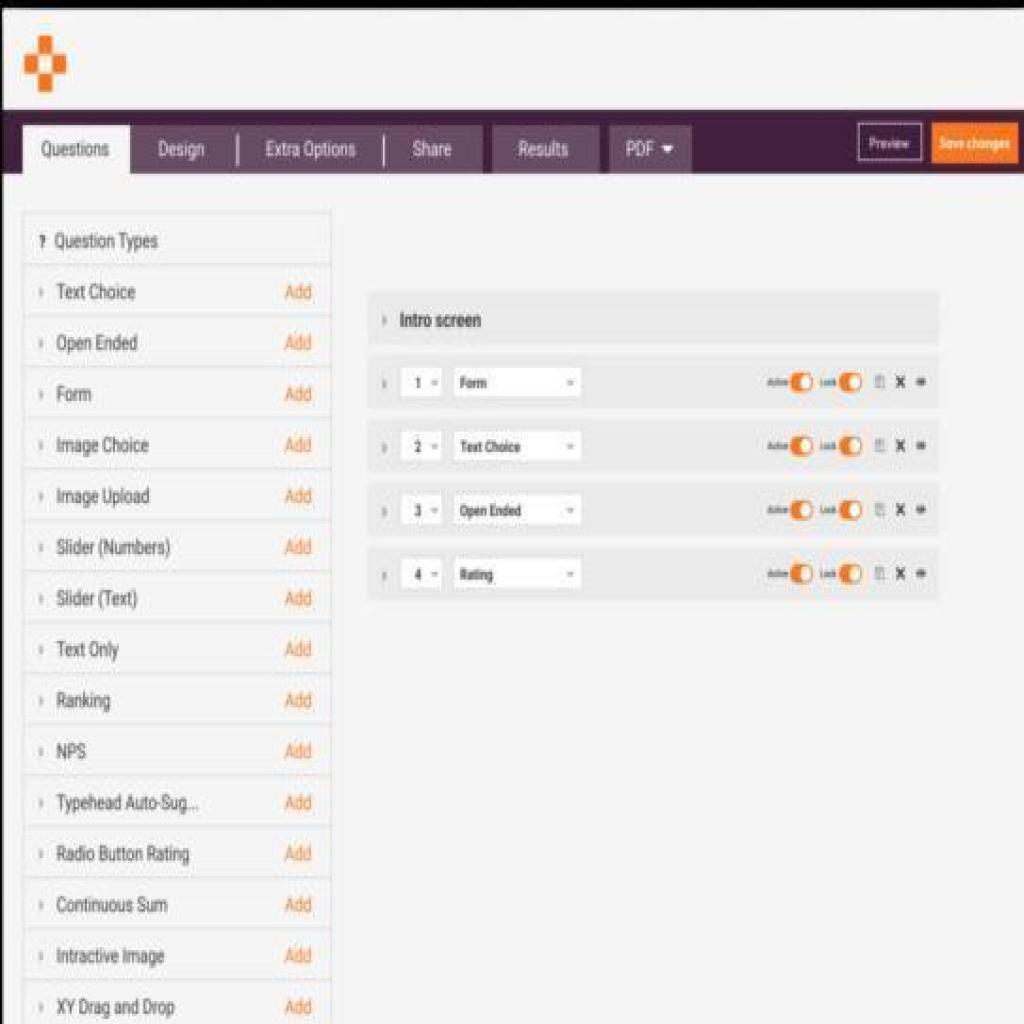button: (238, 122, 382, 174), (25, 125, 130, 174), (385, 122, 481, 174), (128, 128, 238, 171), (494, 128, 602, 171), (930, 120, 1018, 163), (860, 122, 922, 161)
dropdown: (452, 493, 580, 526), (454, 366, 581, 398), (609, 125, 690, 174), (456, 429, 581, 460), (453, 557, 579, 587), (402, 366, 443, 398), (400, 493, 443, 523), (402, 429, 443, 460), (400, 557, 441, 587)
icon: (871, 434, 888, 460), (894, 434, 909, 455), (894, 370, 907, 394), (914, 432, 928, 454), (873, 373, 888, 393), (914, 373, 930, 391), (38, 232, 49, 256), (894, 498, 907, 518), (36, 843, 49, 863), (873, 562, 885, 582), (894, 564, 907, 582), (36, 386, 49, 404), (34, 792, 45, 812), (916, 500, 928, 518), (379, 312, 390, 330), (36, 284, 47, 302), (36, 436, 47, 454), (36, 590, 47, 608), (914, 567, 928, 580), (36, 334, 47, 350), (38, 539, 47, 557), (38, 896, 47, 914), (873, 503, 885, 516), (381, 503, 388, 524), (377, 442, 389, 454), (38, 694, 47, 710), (38, 743, 47, 759), (38, 998, 47, 1014), (383, 567, 390, 587), (381, 376, 388, 394), (38, 950, 47, 963), (40, 490, 47, 503), (38, 644, 45, 656)
label: (56, 786, 202, 820), (53, 843, 198, 873), (51, 532, 172, 564), (51, 480, 155, 516), (396, 301, 496, 337), (47, 894, 170, 922), (53, 948, 170, 976), (55, 429, 151, 462), (55, 996, 175, 1021), (53, 230, 162, 255), (51, 684, 122, 720), (55, 332, 141, 360), (56, 276, 136, 306), (52, 634, 122, 666), (53, 590, 141, 613), (51, 378, 94, 406), (53, 736, 92, 766), (764, 562, 788, 580), (818, 434, 838, 455), (764, 434, 790, 450), (768, 373, 790, 391), (817, 567, 839, 585), (762, 503, 788, 518), (820, 373, 840, 391), (817, 503, 841, 518)
switch: (788, 370, 815, 394), (839, 432, 864, 457), (788, 498, 815, 521), (837, 498, 864, 521), (788, 562, 815, 585), (839, 370, 864, 394), (788, 434, 813, 457), (841, 564, 862, 585)
